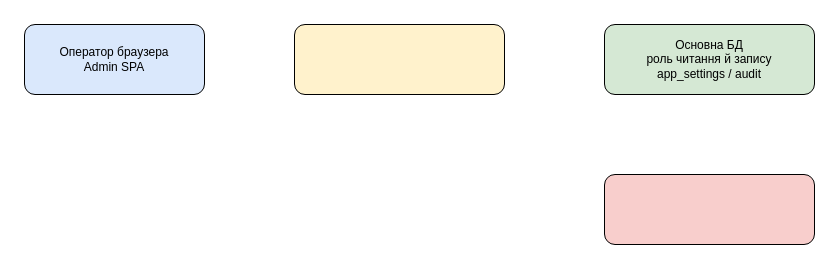
Image size: 832x262. Some labels were removed from this diagram. Here are the shapes that lost their labels. From the top down, the box of each, then its label:
(294, 24, 504, 94): Puluj.Admin /api/admin/* token або loopback
(604, 174, 814, 244): Puluj.Api окрема служба роль лише читання
